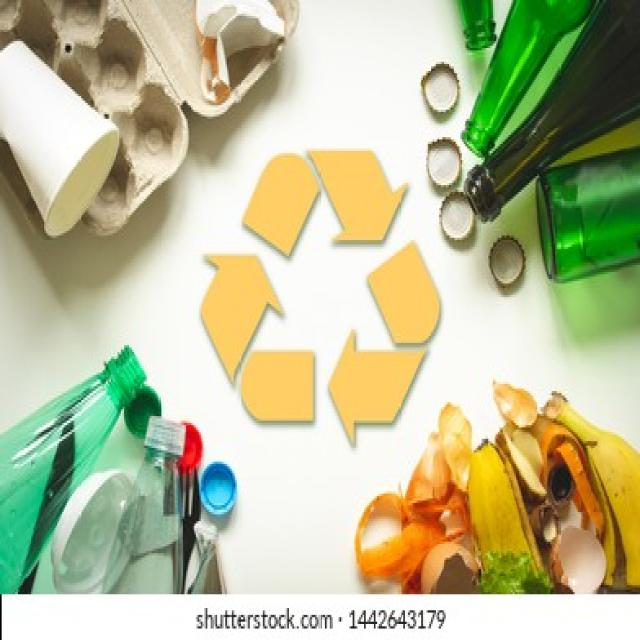cardboard: (3, 7, 242, 226)
glass: (467, 2, 635, 281)
plastic: (68, 464, 224, 594), (2, 354, 144, 494)
trash: (415, 386, 630, 581)
